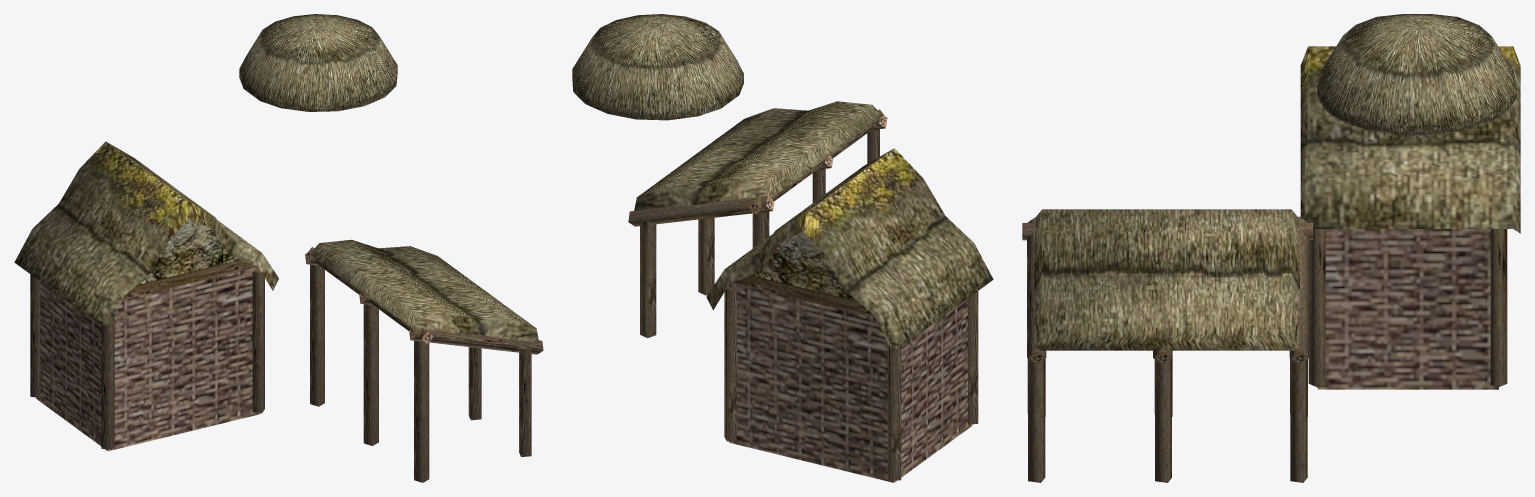
File: celt_mill.dae
3 views of the same model, side by side, from view 1: azimuth 30°, elevation 25°; view 2: azimuth 150°, elevation 25°; view 3: azimuth 270°, elevation 25° (orthographic). The views are drawn at different scales.
Parts seen in each view (by area): view 1: Object08; view 2: Object08; view 3: Object08.
Part boxes in pixels (x1,y1,x2,y2): Object08: (14,14,543,482); Object08: (572,14,993,482); Object08: (1022,14,1520,482).
Bounding box in the file's own units: 12.35 × 12.47 × 11.79.
